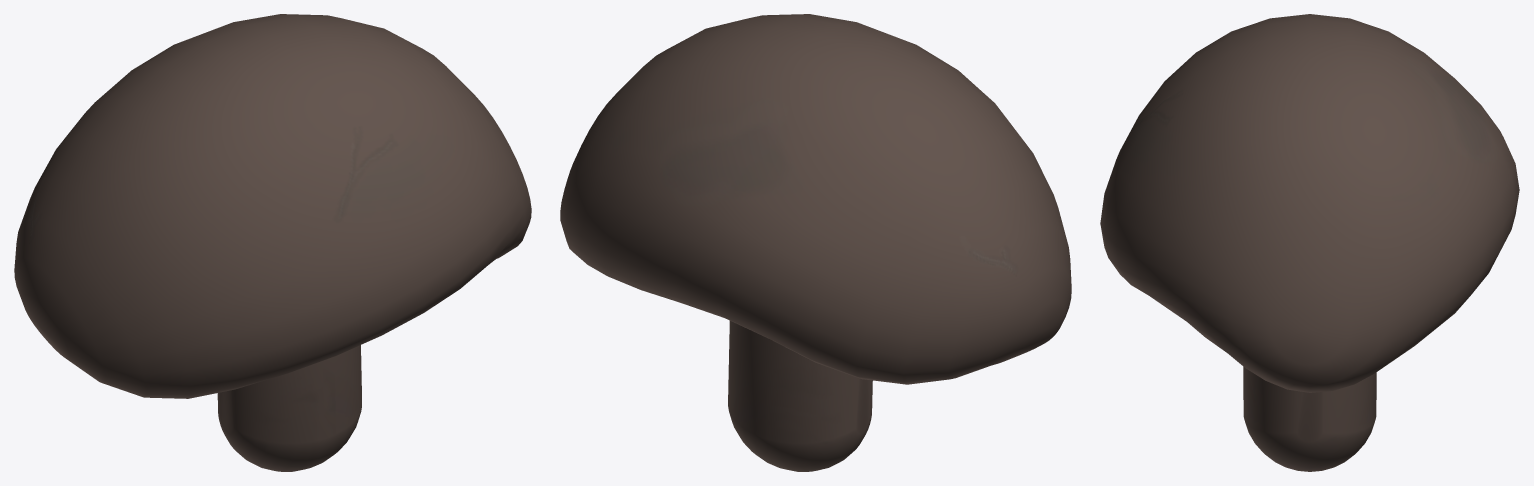
File: pilz.fbx
The picture shows the model from 3 angles, left to right: view 1: azimuth 30°, elevation 25°; view 2: azimuth 150°, elevation 25°; view 3: azimuth 270°, elevation 25°; orthographic projection. The views are drawn at different scales.
Parts seen in each view (by area): view 1: Pilz Hand; view 2: Pilz Hand; view 3: Pilz Hand.
Part boxes in pixels (left/top/right/bottom): Pilz Hand: left=14, top=14, right=531, bottom=471; Pilz Hand: left=560, top=14, right=1071, bottom=471; Pilz Hand: left=1100, top=14, right=1519, bottom=471.
Bounding box in the file's own units: 96.01 × 83.82 × 75.52.
Materials: 1 (1 with a texture image).
